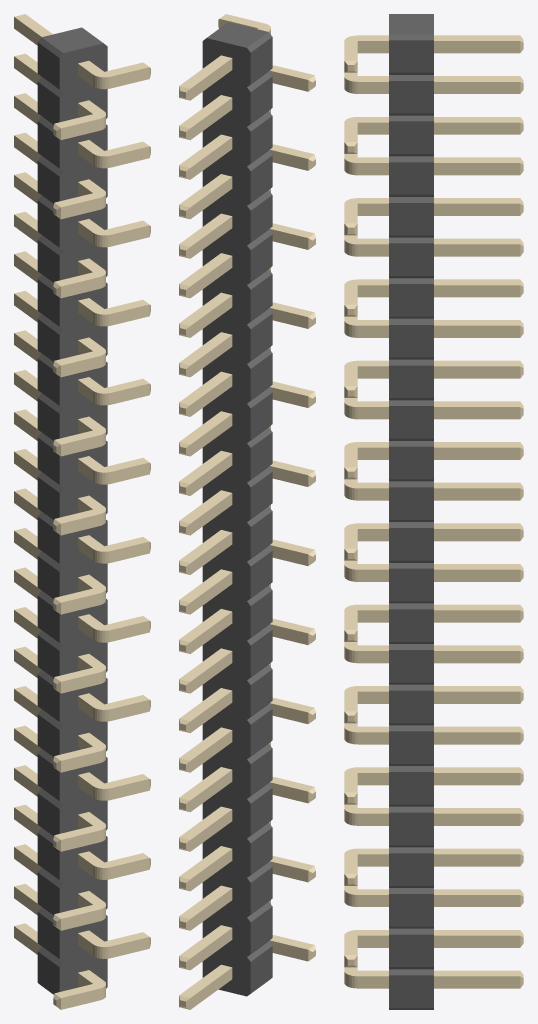
Rendered from PinHeader_1x24_P1.00mm_Vertical_SMD_Pin1Left.glb.
The picture shows the model from 3 angles, left to right: view 1: azimuth 30°, elevation 25°; view 2: azimuth 150°, elevation 25°; view 3: azimuth 270°, elevation 25°; orthographic projection. The views are drawn at different scales.
Parts seen in each view (by area): view 1: Shape_IndexedFaceSet.003, Shape_IndexedFaceSet.001, Shape_IndexedFaceSet.007, Shape_IndexedFaceSet.019, Shape_IndexedFaceSet.055, Shape_IndexedFaceSet.067, Shape_IndexedFaceSet.043, Shape_IndexedFaceSet.079, Shape_IndexedFaceSet.031, Shape_IndexedFaceSet.091, Shape_IndexedFaceSet.103, Shape_IndexedFaceSet.115 (+62 smaller); view 2: Shape_IndexedFaceSet.004, Shape_IndexedFaceSet.001, Shape_IndexedFaceSet.025, Shape_IndexedFaceSet.037, Shape_IndexedFaceSet.055, Shape_IndexedFaceSet.061, Shape_IndexedFaceSet.079, Shape_IndexedFaceSet.103, Shape_IndexedFaceSet.115, Shape_IndexedFaceSet.127, Shape_IndexedFaceSet.007, Shape_IndexedFaceSet.013 (+75 smaller); view 3: Shape_IndexedFaceSet.064, Shape_IndexedFaceSet.082, Shape_IndexedFaceSet.100, Shape_IndexedFaceSet.118, Shape_IndexedFaceSet.002, Shape_IndexedFaceSet.010, Shape_IndexedFaceSet.016, Shape_IndexedFaceSet.022, Shape_IndexedFaceSet.028, Shape_IndexedFaceSet.034, Shape_IndexedFaceSet.040, Shape_IndexedFaceSet.046 (+73 smaller).
Boxes of the visible parts, left/top/right/bottom form: Shape_IndexedFaceSet.003: left=59, top=43, right=107, bottom=991; Shape_IndexedFaceSet.001: left=42, top=27, right=103, bottom=52; Shape_IndexedFaceSet.007: left=37, top=42, right=59, bottom=89; Shape_IndexedFaceSet.019: left=37, top=121, right=59, bottom=168; Shape_IndexedFaceSet.055: left=37, top=358, right=59, bottom=405; Shape_IndexedFaceSet.067: left=37, top=437, right=59, bottom=484; Shape_IndexedFaceSet.043: left=37, top=279, right=59, bottom=326; Shape_IndexedFaceSet.079: left=37, top=516, right=59, bottom=563; Shape_IndexedFaceSet.031: left=37, top=200, right=59, bottom=247; Shape_IndexedFaceSet.091: left=37, top=596, right=59, bottom=642; Shape_IndexedFaceSet.103: left=37, top=675, right=59, bottom=721; Shape_IndexedFaceSet.115: left=37, top=754, right=59, bottom=800; Shape_IndexedFaceSet.004: left=202, top=38, right=250, bottom=996; Shape_IndexedFaceSet.001: left=207, top=22, right=268, bottom=47; Shape_IndexedFaceSet.025: left=250, top=155, right=272, bottom=202; Shape_IndexedFaceSet.037: left=250, top=234, right=272, bottom=281; Shape_IndexedFaceSet.055: left=250, top=353, right=272, bottom=400; Shape_IndexedFaceSet.061: left=250, top=392, right=272, bottom=439; Shape_IndexedFaceSet.079: left=250, top=511, right=272, bottom=558; Shape_IndexedFaceSet.103: left=250, top=669, right=272, bottom=716; Shape_IndexedFaceSet.115: left=250, top=748, right=272, bottom=795; Shape_IndexedFaceSet.127: left=250, top=827, right=272, bottom=874; Shape_IndexedFaceSet.007: left=250, top=37, right=272, bottom=83; Shape_IndexedFaceSet.013: left=250, top=76, right=272, bottom=123; Shape_IndexedFaceSet.064: left=389, top=446, right=433, bottom=479; Shape_IndexedFaceSet.082: left=389, top=568, right=433, bottom=601; Shape_IndexedFaceSet.100: left=389, top=690, right=433, bottom=723; Shape_IndexedFaceSet.118: left=389, top=812, right=433, bottom=845; Shape_IndexedFaceSet.002: left=389, top=40, right=433, bottom=72; Shape_IndexedFaceSet.010: left=389, top=81, right=433, bottom=113; Shape_IndexedFaceSet.016: left=389, top=121, right=433, bottom=153; Shape_IndexedFaceSet.022: left=389, top=162, right=433, bottom=194; Shape_IndexedFaceSet.028: left=389, top=203, right=433, bottom=235; Shape_IndexedFaceSet.034: left=389, top=243, right=433, bottom=275; Shape_IndexedFaceSet.040: left=389, top=284, right=433, bottom=316; Shape_IndexedFaceSet.046: left=389, top=325, right=433, bottom=357.
Bounding box in the file's own units: 0.984 × 9.45 × 1.58.
